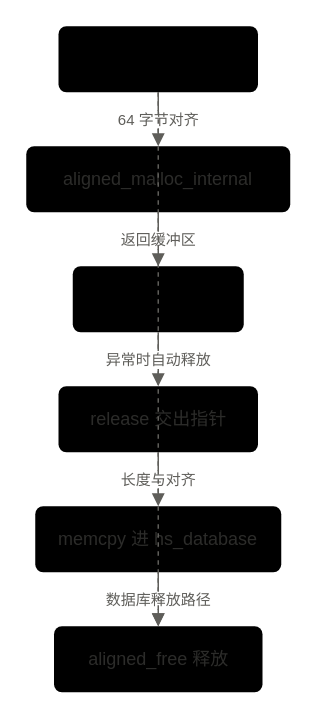
This 317x719 diagram has some shape labels left out. Here are the shapes that lost their labels. From the top down, the box of each, then its label:
(57, 25, 258, 92): make_zeroed 申请
(71, 265, 244, 332): Rose 写入各段
